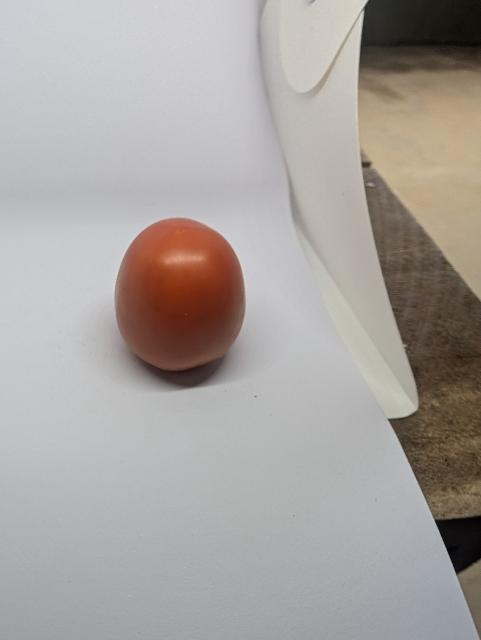red: (106, 203, 261, 380)
